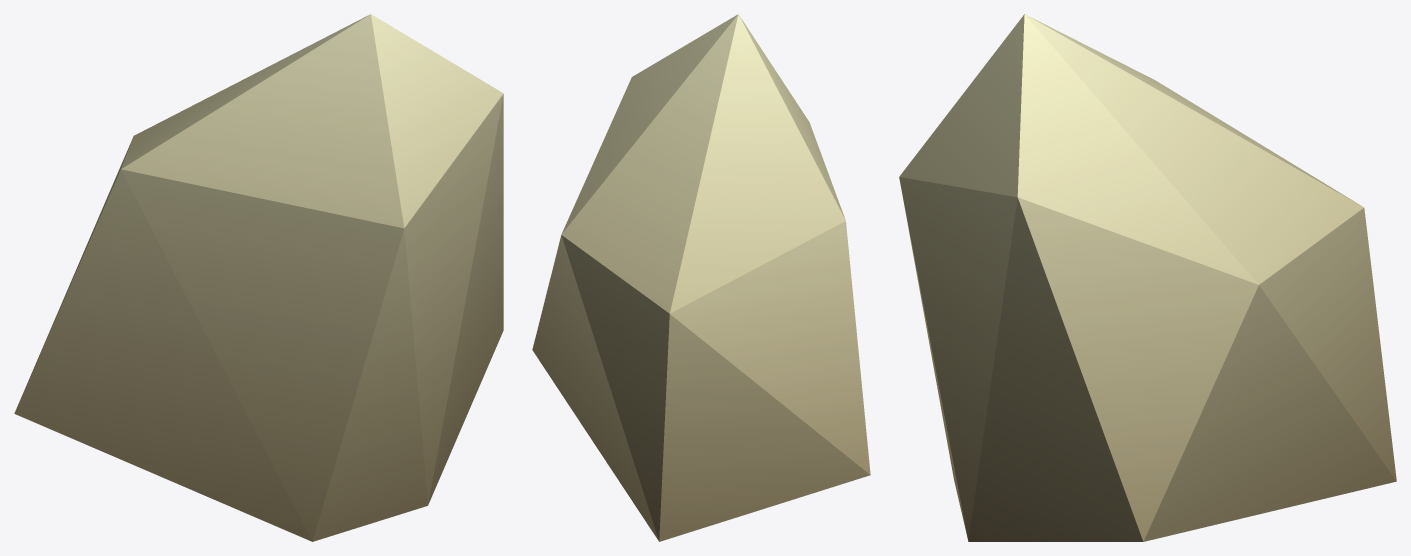
The model's file is Rock_03.fbx.
The picture shows the model from 3 angles, left to right: view 1: azimuth 30°, elevation 25°; view 2: azimuth 150°, elevation 25°; view 3: azimuth 270°, elevation 25°; orthographic projection. The views are drawn at different scales.
Parts seen in each view (by area): view 1: Rock_03_Mesh; view 2: Rock_03_Mesh; view 3: Rock_03_Mesh.
Boxes of the visible parts, x1,y1,x2,y2 form: Rock_03_Mesh: [14, 14, 503, 541]; Rock_03_Mesh: [532, 14, 870, 541]; Rock_03_Mesh: [899, 14, 1396, 541].
Size of the model in its own units: 185 by 192 by 168.
